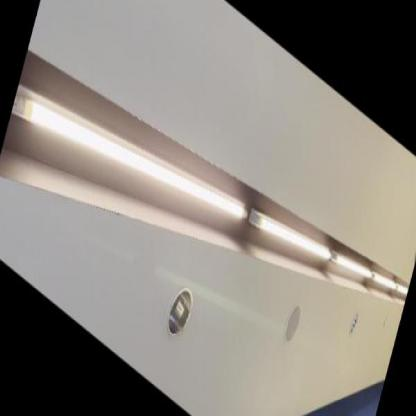light_on: (5, 7, 258, 317), (248, 189, 334, 290), (328, 240, 374, 297), (368, 259, 398, 300), (393, 274, 410, 304)
